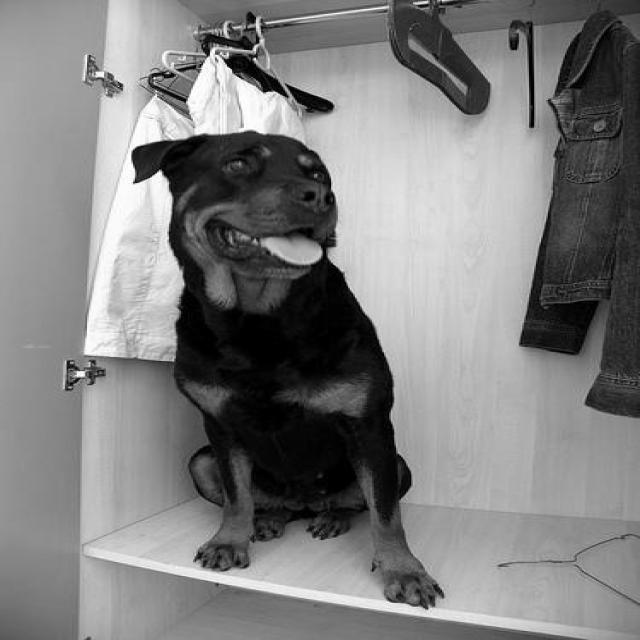sitting: (120, 126, 477, 609)
